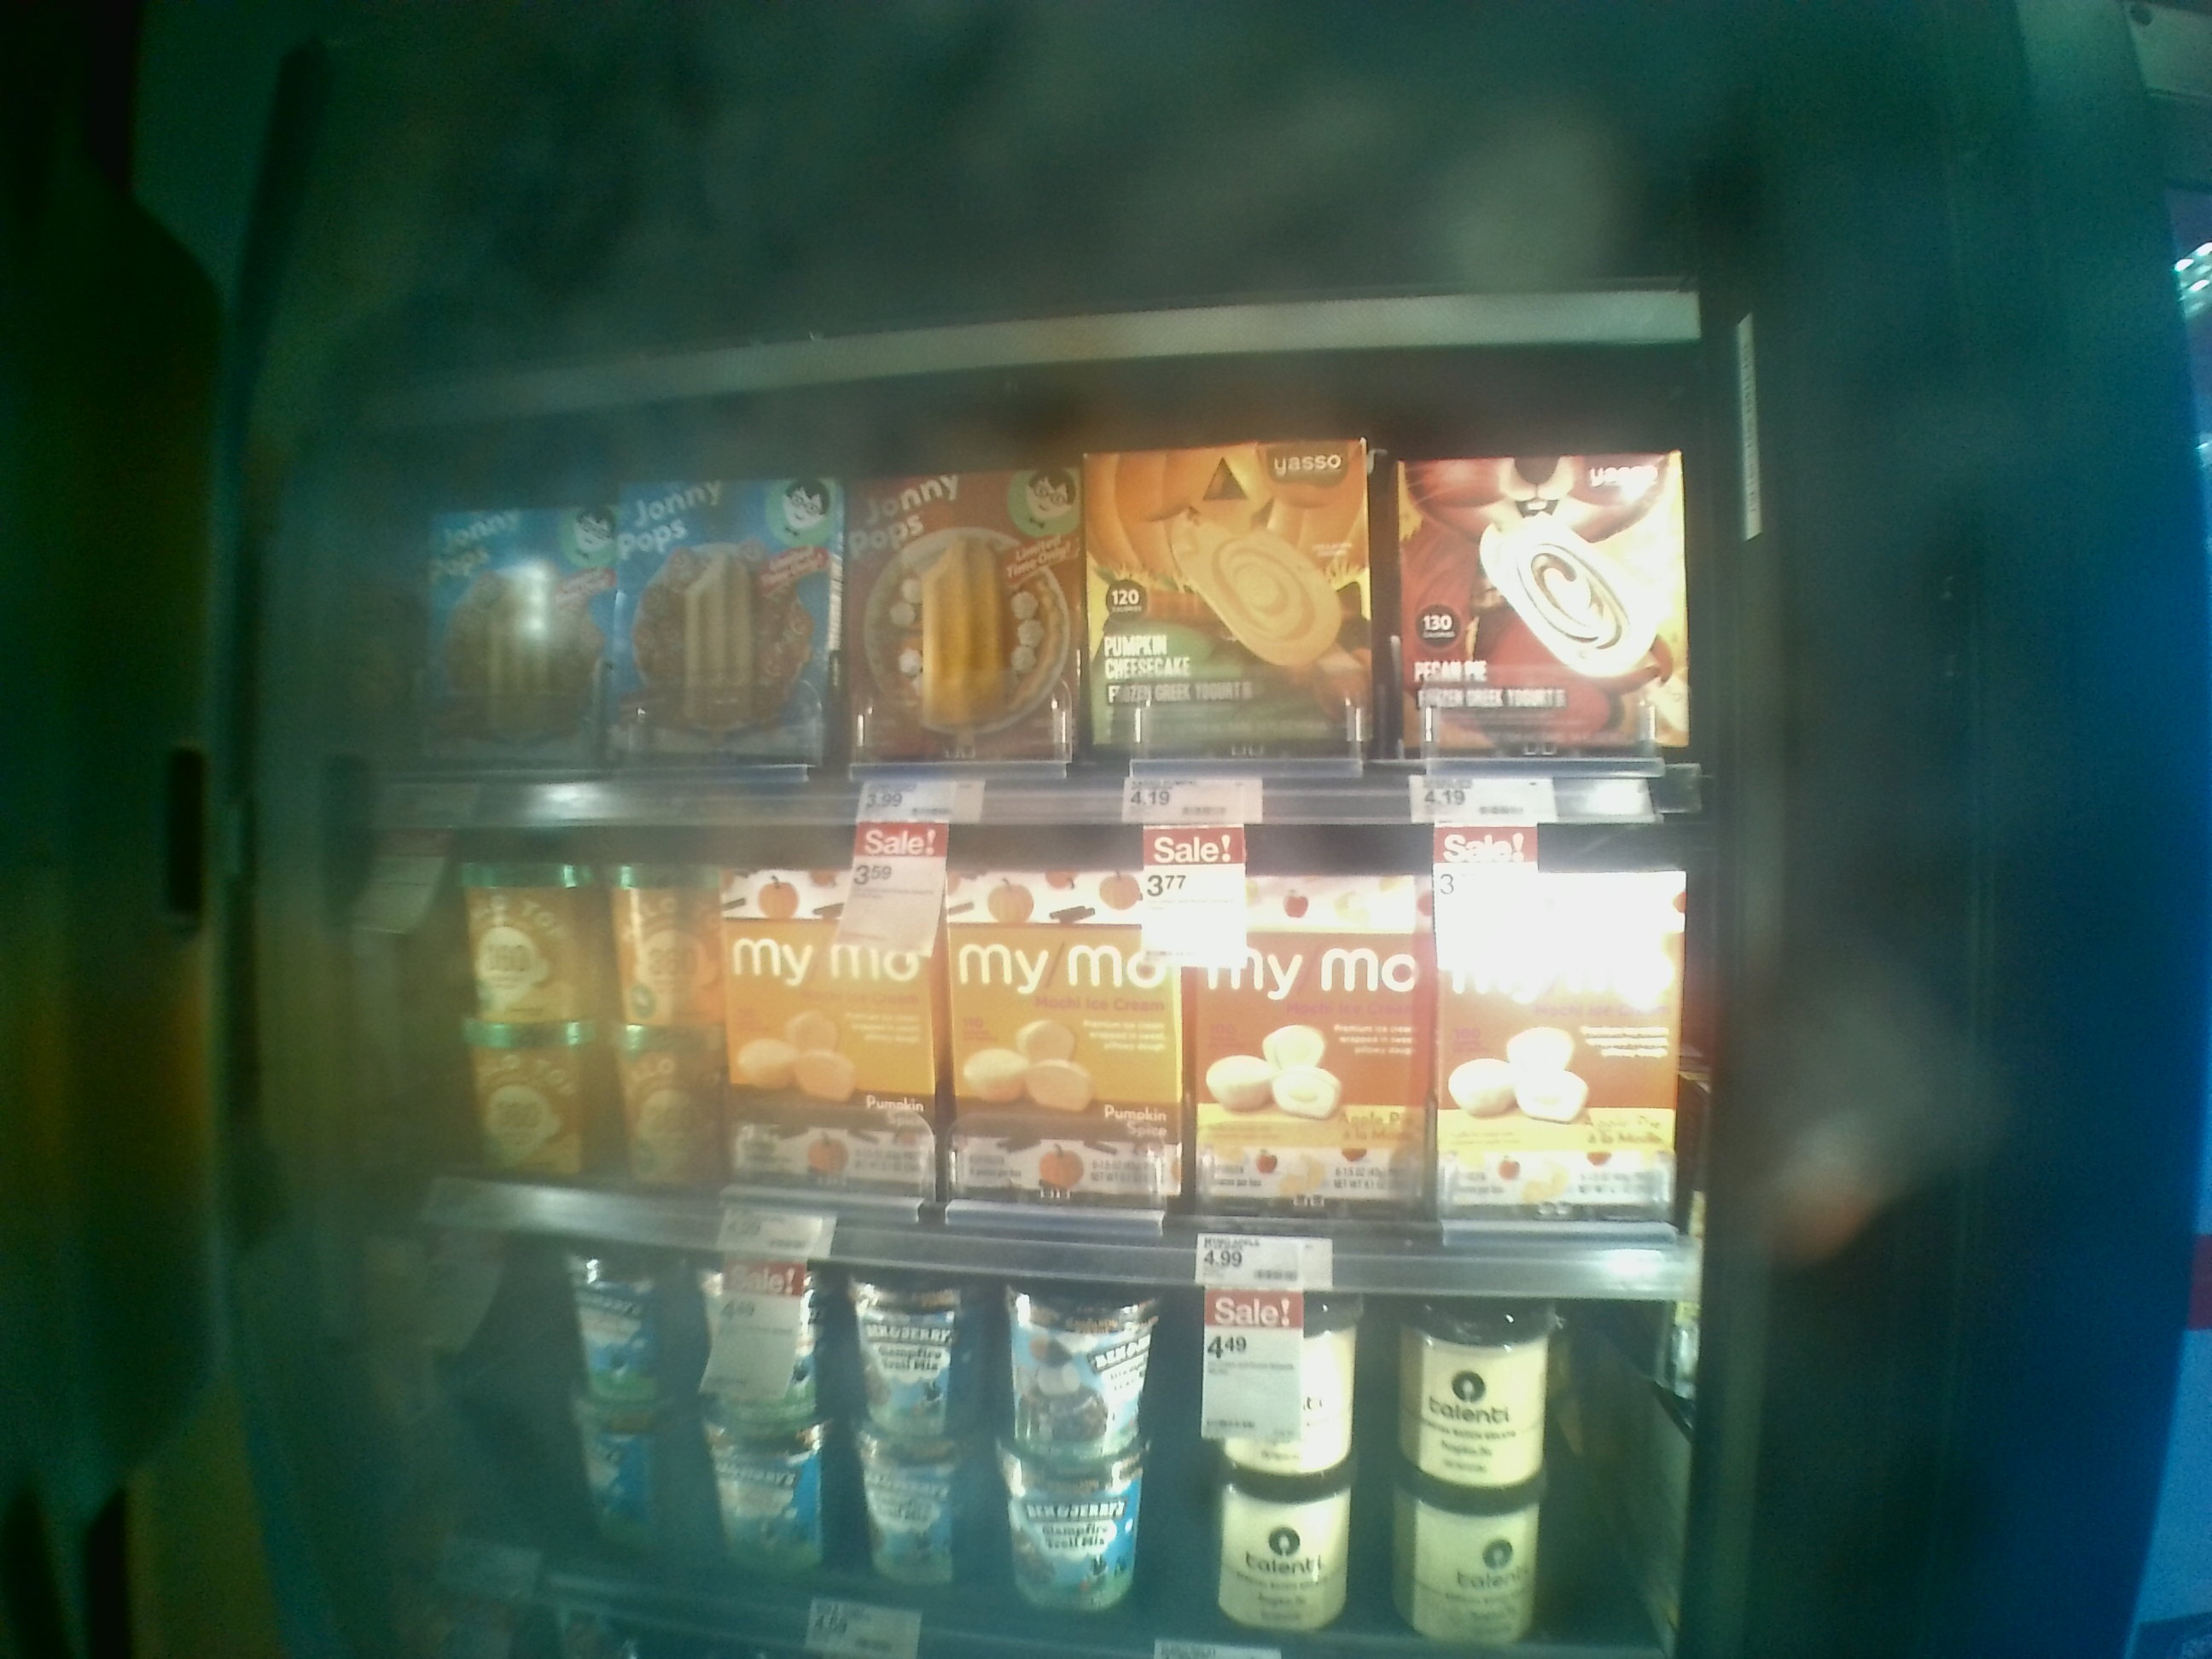shelf: (327, 781, 1705, 1303), (333, 394, 1707, 816)
